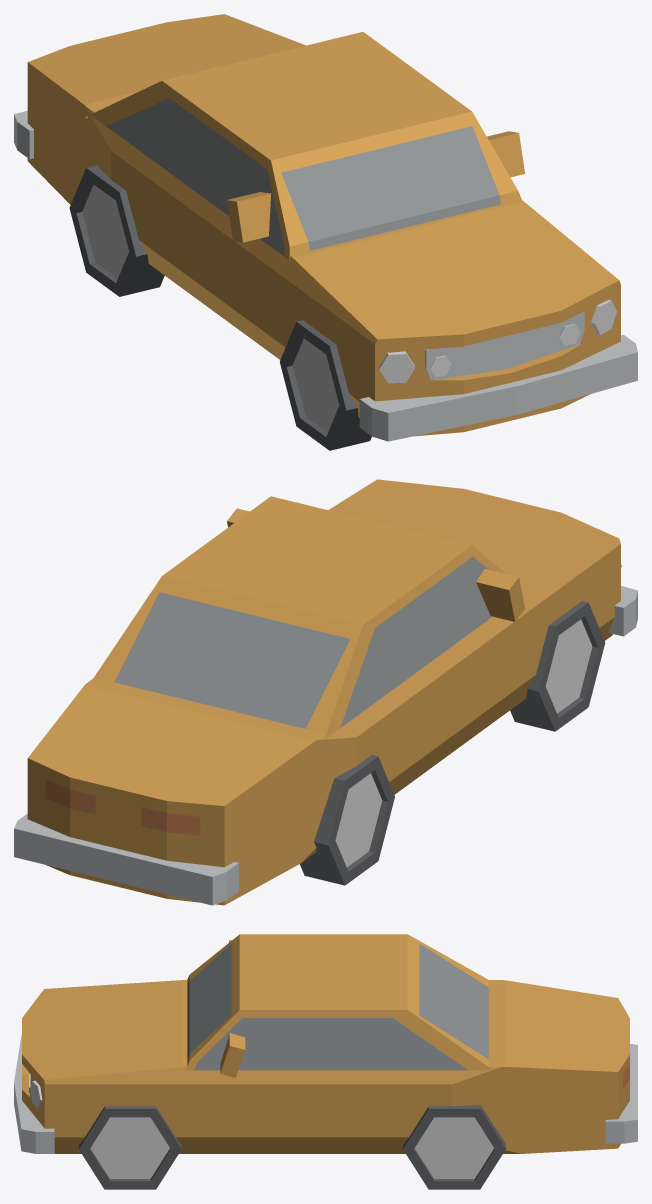
The model's file is car.glb.
3 views of the same model, one above another, from view 1: azimuth 30°, elevation 25°; view 2: azimuth 150°, elevation 25°; view 3: azimuth 270°, elevation 25° (orthographic). The views are drawn at different scales.
Visible parts, largest first — view 1: Mesh_Mesh_head_geo.001_lambert2SG.001; view 2: Mesh_Mesh_head_geo.001_lambert2SG.001; view 3: Mesh_Mesh_head_geo.001_lambert2SG.001.
Part boxes in pixels (x1,y1,x2,y2): Mesh_Mesh_head_geo.001_lambert2SG.001: (14, 14, 637, 450); Mesh_Mesh_head_geo.001_lambert2SG.001: (14, 479, 637, 905); Mesh_Mesh_head_geo.001_lambert2SG.001: (14, 934, 637, 1189).
Size of the model in its own units: 91.5 by 67.9 by 227.
